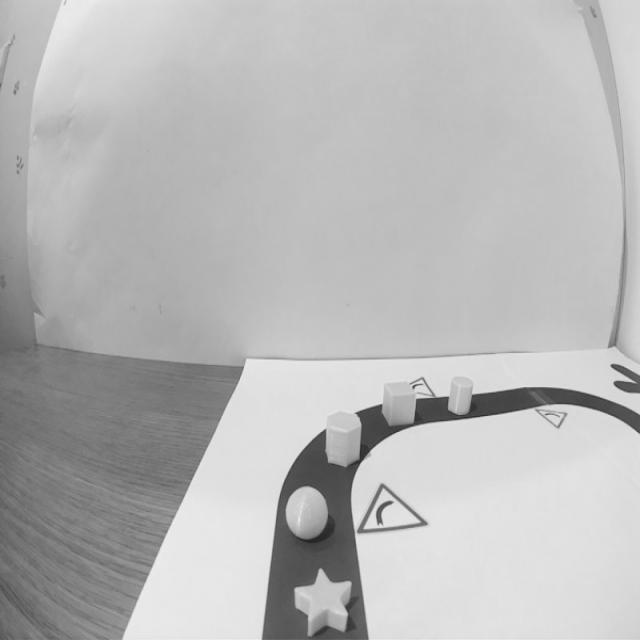ball: (284, 483, 332, 545)
cube: (380, 379, 420, 430)
cylinder: (447, 372, 474, 424)
hexagon: (322, 407, 364, 469)
star: (290, 565, 359, 639)
